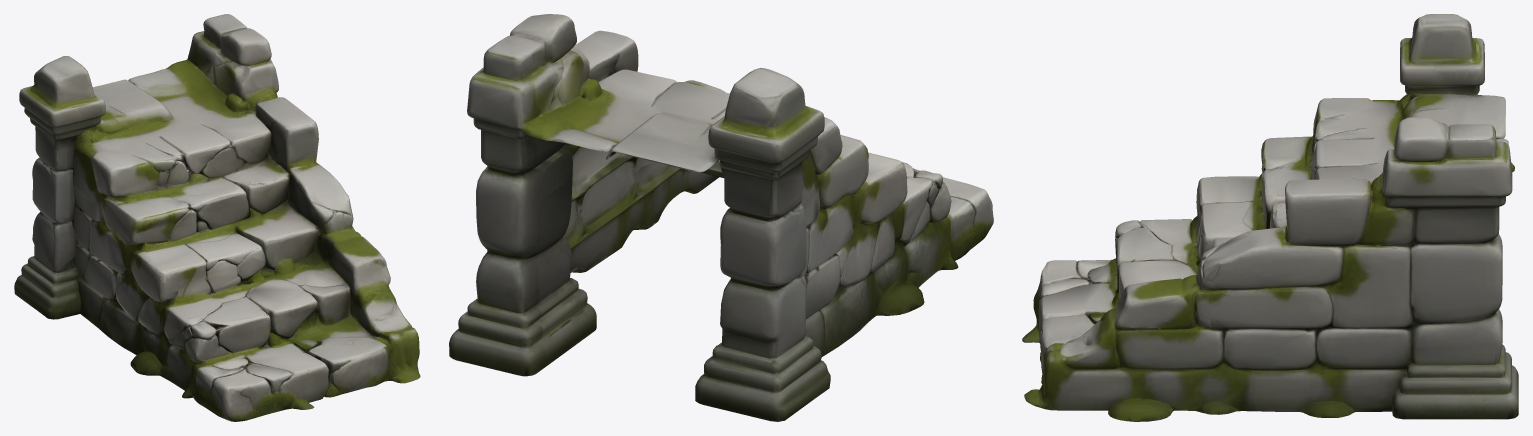
File: stairs.glb
3 renders of one model, left to right at view 1: azimuth 30°, elevation 25°; view 2: azimuth 150°, elevation 25°; view 3: azimuth 270°, elevation 25°, orthographic. The views are drawn at different scales.
Visible parts, largest first — view 1: Stairs; view 2: Stairs; view 3: Stairs.
Part boxes in pixels (left/top/right/bottom): Stairs: left=14, top=14, right=420, bottom=421; Stairs: left=449, top=14, right=993, bottom=421; Stairs: left=1022, top=14, right=1518, bottom=421.
Size of the model in its own units: 0.62 by 0.5658 by 0.9064.
1 material, 1 textured.
